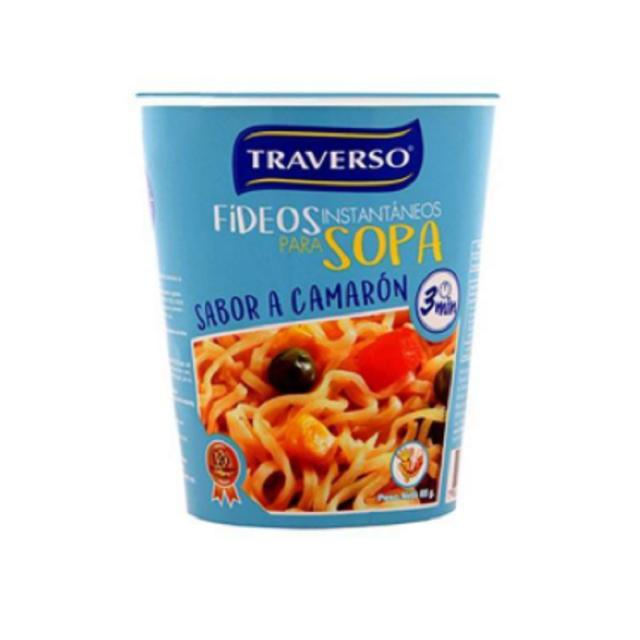Caja: (122, 74, 490, 534)
